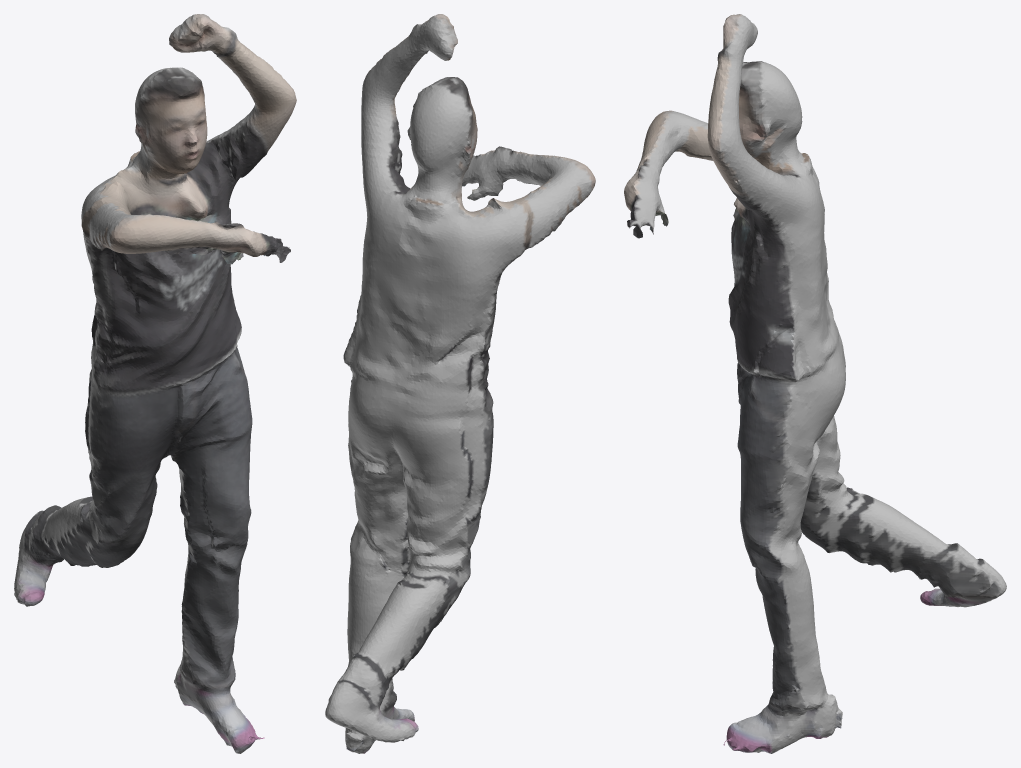
File: 0000_view_elev+00_01_textured.glb
The picture shows the model from 3 angles, left to right: view 1: azimuth 30°, elevation 25°; view 2: azimuth 150°, elevation 25°; view 3: azimuth 270°, elevation 25°; orthographic projection. The views are drawn at different scales.
Visible parts, largest first — view 1: 0000_view_elev+00_01_merged.obj; view 2: 0000_view_elev+00_01_merged.obj; view 3: 0000_view_elev+00_01_merged.obj.
Boxes of the visible parts, left/top/right/bottom form: 0000_view_elev+00_01_merged.obj: left=14, top=14, right=296, bottom=753; 0000_view_elev+00_01_merged.obj: left=325, top=14, right=595, bottom=753; 0000_view_elev+00_01_merged.obj: left=624, top=14, right=1006, bottom=753.
Bounding box in the file's own units: 0.5667 × 1.92 × 0.9295.
